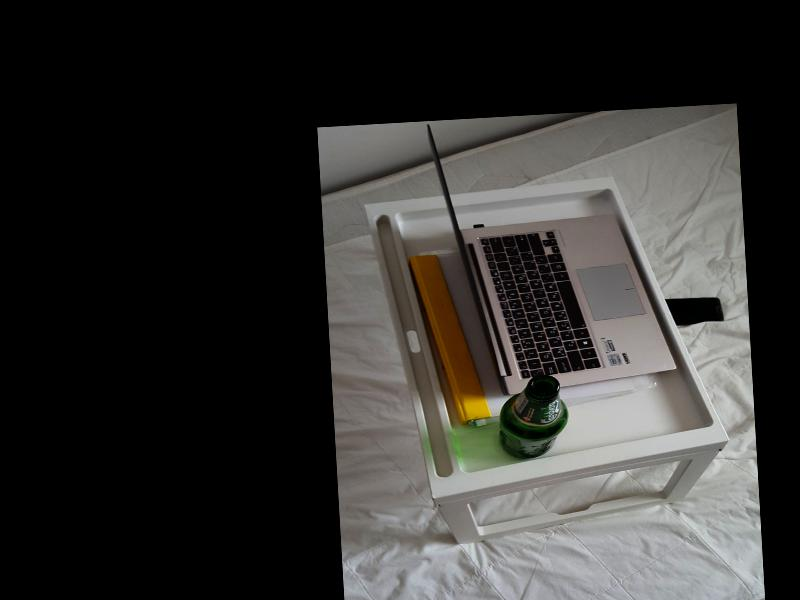Beer: (496, 374, 570, 461)
